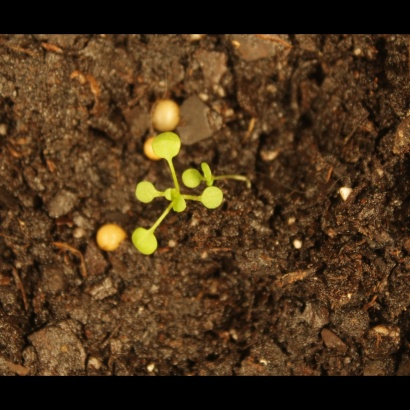leaf: (125, 225, 167, 264), (142, 130, 190, 158), (134, 178, 164, 207), (195, 185, 229, 209), (178, 165, 206, 193), (164, 187, 189, 216), (198, 156, 221, 187)
